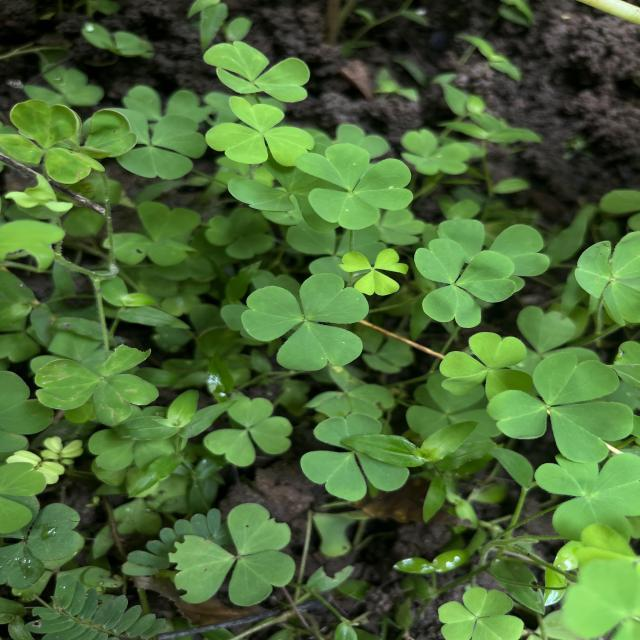Oxalis corniculata: (484, 352, 634, 464), (167, 500, 297, 608), (240, 272, 370, 372), (294, 142, 414, 232), (34, 342, 160, 427), (300, 412, 410, 502), (413, 237, 517, 329), (82, 106, 208, 181), (204, 96, 316, 168), (202, 40, 312, 103), (202, 396, 287, 465), (436, 586, 524, 640), (339, 248, 409, 296)
